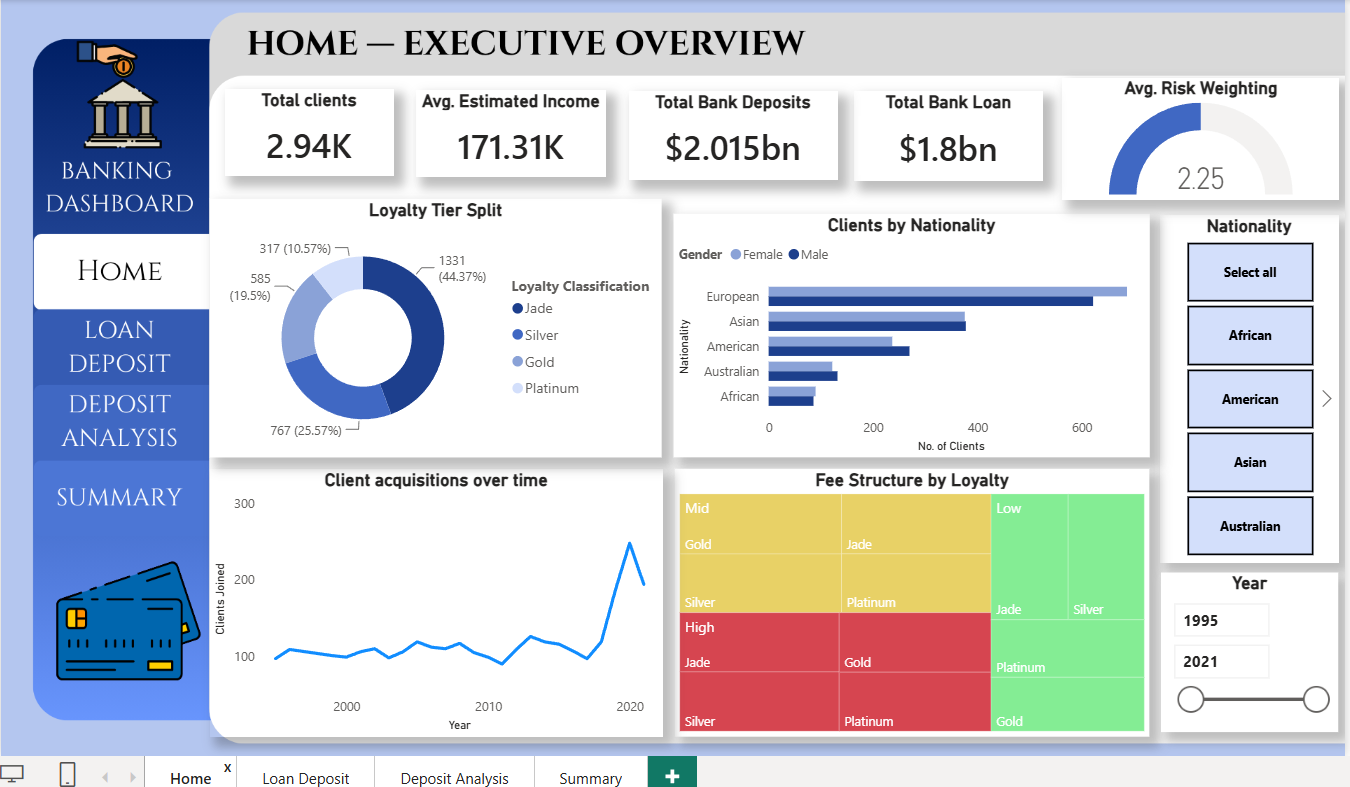

What the dashboard file says about the page in this screenshot:
{"tool":"powerbi","page":{"name":"Home","canvas":[1280,720],"ordinal":0},"visuals":[{"type":"actionButton","box":[30.2,293.7,168.8,75.5],"z":0},{"type":"actionButton","box":[30.2,369.1,168.8,67.2],"z":1000},{"type":"actionButton","box":[30.2,436.4,168.8,65.9],"z":2000},{"type":"donutChart","title":"Loyalty Tier Split","fields":{"Category":["banking-clients.Loyalty Classification"],"Y":["CountNonNull(banking-clients.Client ID)"]},"box":[198.7,189.8,430.1,246.2],"z":3000},{"type":"clusteredBarChart","title":"Clients by Nationality","fields":{"Category":["banking-clients.Nationality"],"Series":["banking-clients.GenderId"],"Y":["CountNonNull(banking-clients.Client ID)"]},"box":[640.5,203.6,453.6,232.1],"z":4000},{"type":"treemap","title":"Fee Structure by Loyalty","fields":{"Group":["banking-clients.Fee Structure"],"Values":["Avg(banking-clients.Estimated Income)"],"Details":["banking-clients.Loyalty Classification"]},"box":[642.2,446.4,452.4,255.1],"z":5000},{"type":"lineChart","title":"Client acquisitions over time","fields":{"Y":["CountNonNull(banking-clients.Client ID)"],"Category":["banking-clients.Joined Bank.Variation.Date Hierarchy.Year"]},"box":[198.7,446.4,431.6,255.1],"z":6000},{"type":"slicer","title":"Nationality","fields":{"Values":["banking-clients.Nationality"]},"box":[1103.6,204.8,170.2,331],"z":7000},{"type":"cardVisual","title":"Total clients","fields":{"Data":["Count(banking-clients.Client ID)"]},"box":[213.1,84.5,160.7,83.3],"z":8000},{"type":"cardVisual","title":"Total Bank Deposits","fields":{"Data":["Sum(banking-clients.Bank Deposits)"]},"box":[597.6,86.9,198.8,84.5],"z":9000},{"type":"cardVisual","title":"Total Bank Loan","fields":{"Data":["Sum(banking-clients.Bank Loans)"]},"box":[811.9,86.9,181,85.7],"z":10000},{"type":"slicer","title":"Year","fields":{"Values":["banking-clients.Joined Bank.Variation.Date Hierarchy.Year"]},"box":[1104.8,545.2,169,152.4],"z":11000},{"type":"gauge","title":"Avg. Risk Weighting","fields":{"Y":["Avg(banking-clients.Risk Weighting)"]},"box":[1010.7,73.8,264.3,116.7],"z":12000},{"type":"cardVisual","title":"Avg. Estimated Income","fields":{"Data":["Avg(banking-clients.Estimated Income)"]},"box":[395.2,85.7,181,83.3],"z":13000}]}

Visuals, with their boxes on the page's 1280x720 design canvas (x1, y1, x2, y2). These are canvas units, not pixel positions in the 1350x787 screenshot, which may show the page scaled, cropped or inside an application window:
actionButton: l=30, t=294, r=199, b=369
actionButton: l=30, t=369, r=199, b=436
actionButton: l=30, t=436, r=199, b=502
"Loyalty Tier Split" donutChart: l=199, t=190, r=629, b=436
"Clients by Nationality" clusteredBarChart: l=640, t=204, r=1094, b=436
"Fee Structure by Loyalty" treemap: l=642, t=446, r=1095, b=702
"Client acquisitions over time" lineChart: l=199, t=446, r=630, b=702
"Nationality" slicer: l=1104, t=205, r=1274, b=536
"Total clients" cardVisual: l=213, t=84, r=374, b=168
"Total Bank Deposits" cardVisual: l=598, t=87, r=796, b=171
"Total Bank Loan" cardVisual: l=812, t=87, r=993, b=173
"Year" slicer: l=1105, t=545, r=1274, b=698
"Avg. Risk Weighting" gauge: l=1011, t=74, r=1275, b=190
"Avg. Estimated Income" cardVisual: l=395, t=86, r=576, b=169
